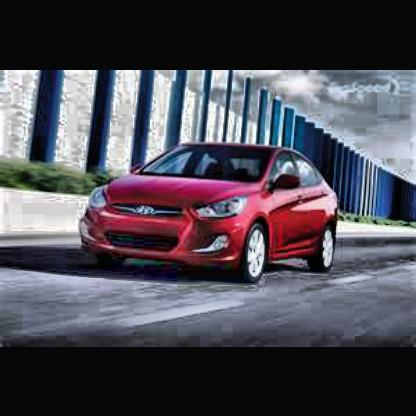Hyundai Accent Sedan 2012: (83, 142, 343, 284)
